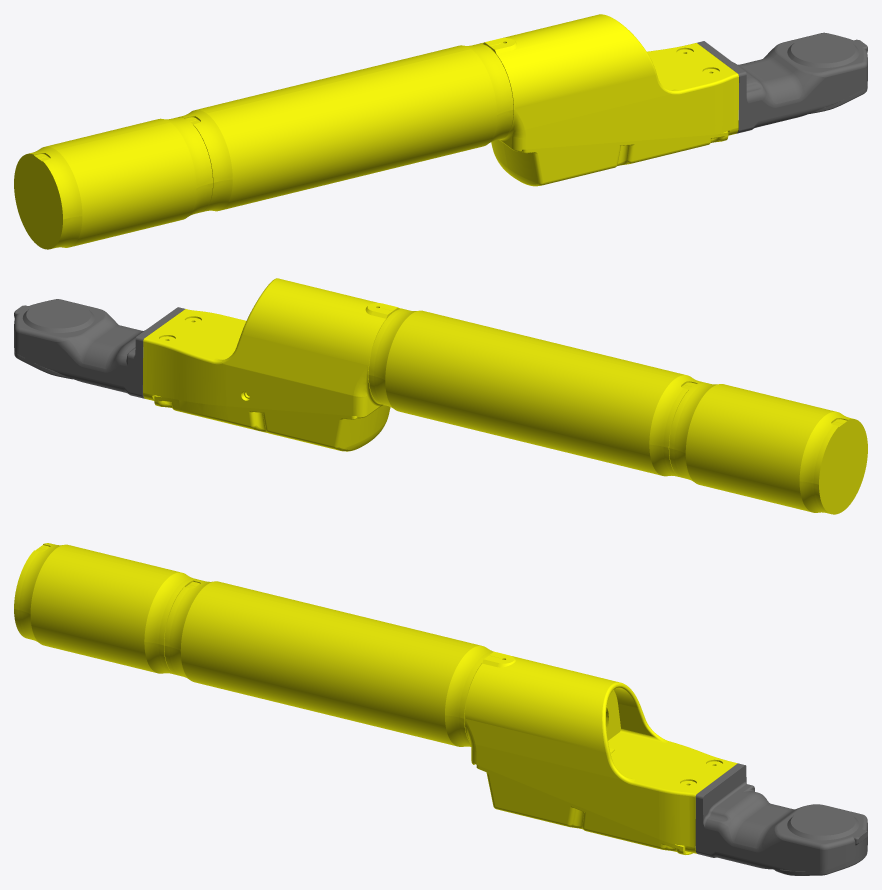
3 renders of one model, top to bottom at view 1: azimuth 30°, elevation 25°; view 2: azimuth 150°, elevation 25°; view 3: azimuth 330°, elevation 25°, orthographic.
Visible parts, largest first — view 1: Mesh_0; view 2: Mesh_0; view 3: Mesh_0.
Boxes of the visible parts, x1=… form: Mesh_0: x1=14, y1=14, x2=867, y2=249; Mesh_0: x1=14, y1=278, x2=867, y2=514; Mesh_0: x1=14, y1=543, x2=867, y2=875.
Bounding box in the file's own units: 1.1 × 0.1763 × 0.1235.
